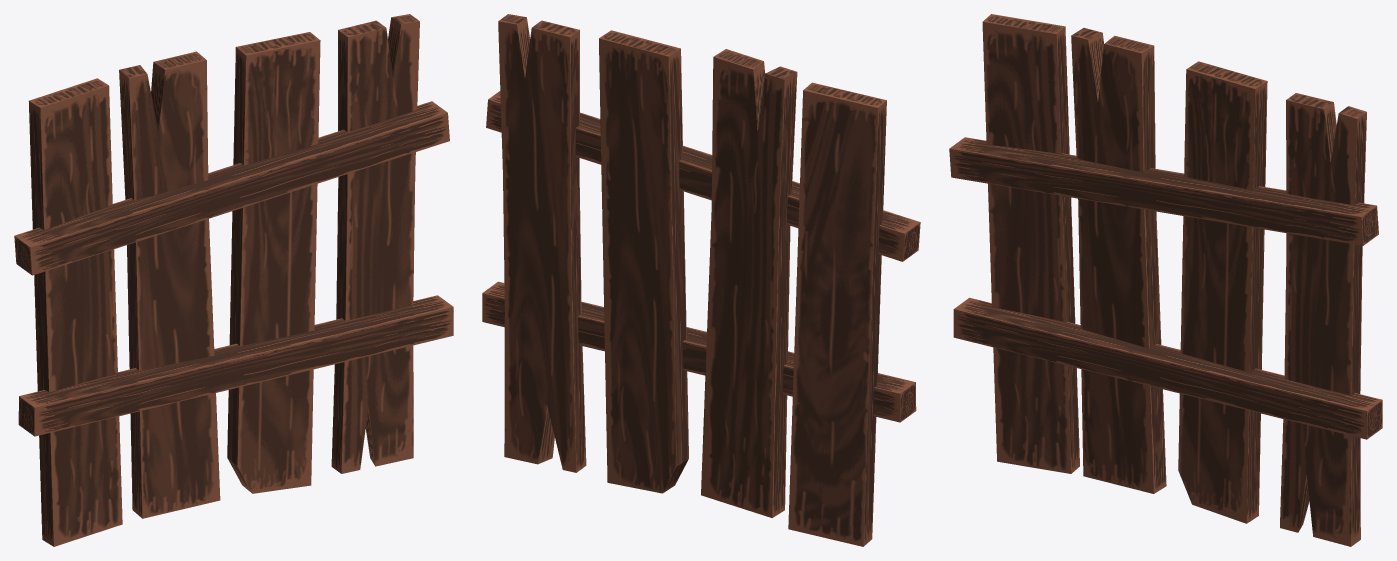
The model's file is Wood_wall_2.fbx.
3 renders of one model, left to right at view 1: azimuth 30°, elevation 25°; view 2: azimuth 150°, elevation 25°; view 3: azimuth 330°, elevation 25°, orthographic.
Visible parts, largest first — view 1: Wood_wall_2; view 2: Wood_wall_2; view 3: Wood_wall_2.
Boxes of the visible parts, x1,y1,x2,y2 form: Wood_wall_2: [14, 14, 453, 546]; Wood_wall_2: [482, 14, 920, 546]; Wood_wall_2: [949, 14, 1382, 546].
Bounding box in the file's own units: 2 × 2.04 × 0.2122.
